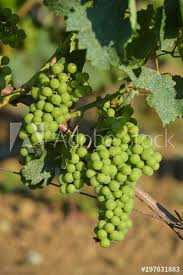grapes: (21, 55, 91, 196), (99, 111, 154, 255)
